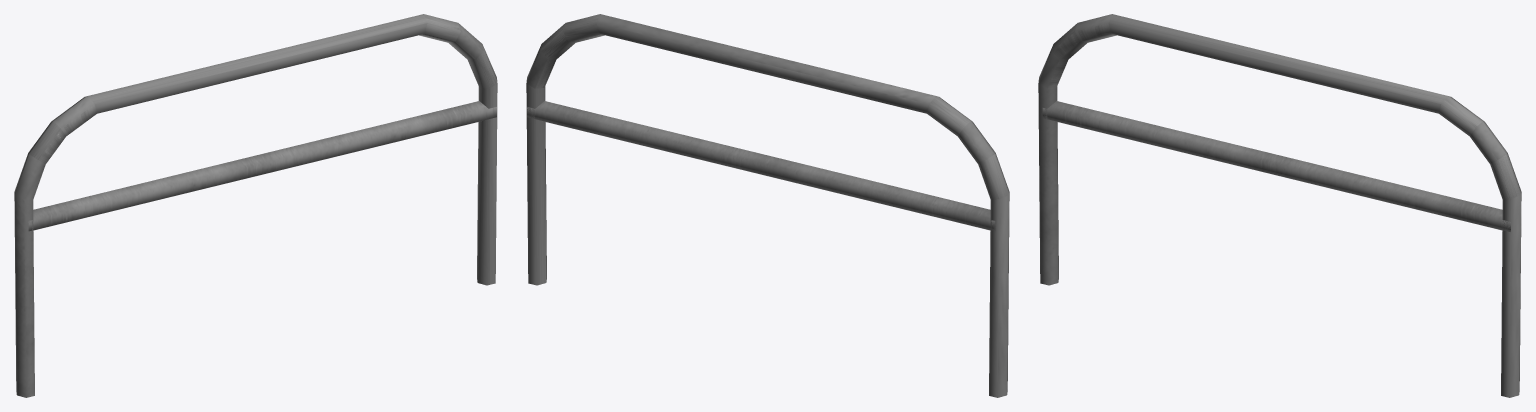
Rendered from fence_type_2.fbx.
3 renders of one model, left to right at view 1: azimuth 30°, elevation 25°; view 2: azimuth 150°, elevation 25°; view 3: azimuth 330°, elevation 25°, orthographic.
Visible parts, largest first — view 1: BézierCurve.006; view 2: BézierCurve.006; view 3: BézierCurve.006.
Boxes of the visible parts, x1=… form: BézierCurve.006: x1=14, y1=14, x2=497, y2=397; BézierCurve.006: x1=526, y1=14, x2=1009, y2=397; BézierCurve.006: x1=1038, y1=14, x2=1521, y2=397.
Bounding box in the file's own units: 2042 × 1142 × 73.66.
1 material, 1 textured.
